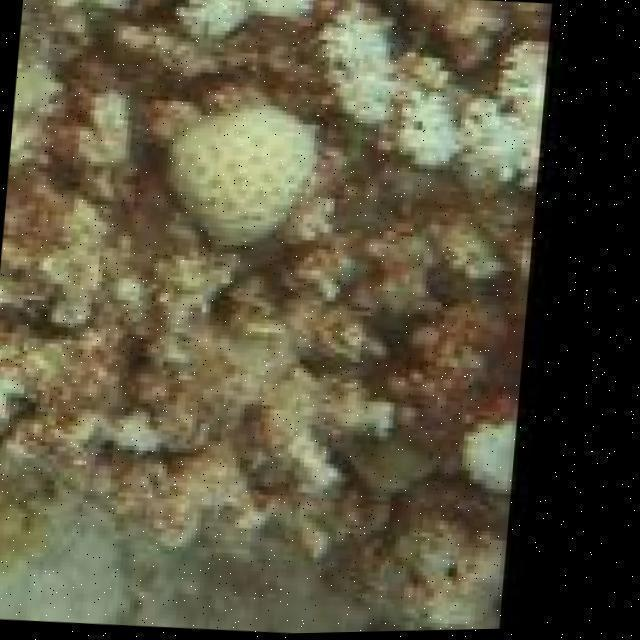Bleached Coral: (316, 6, 541, 199)
